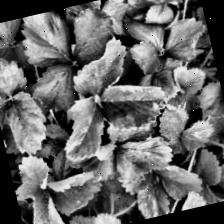Powdery Mildew Leaf: (96, 73, 172, 138), (157, 60, 213, 115), (8, 150, 56, 202)
